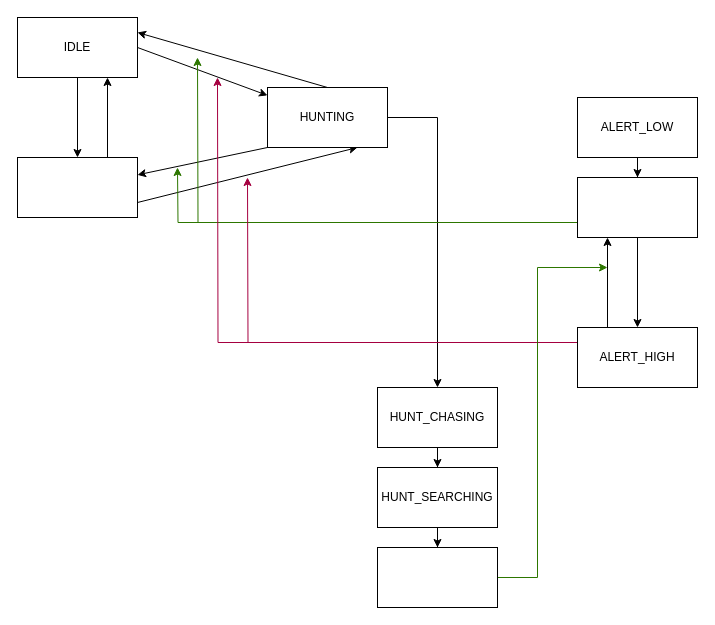
Image size: 715x625. Some labels were removed from this diagram. Here are the shapes that lost their labels. From the top down, the centre of each, then its label:
(77,187): MOVING
(637,207): ALERT_MEDIUM
(437,577): HUNT_LOST
